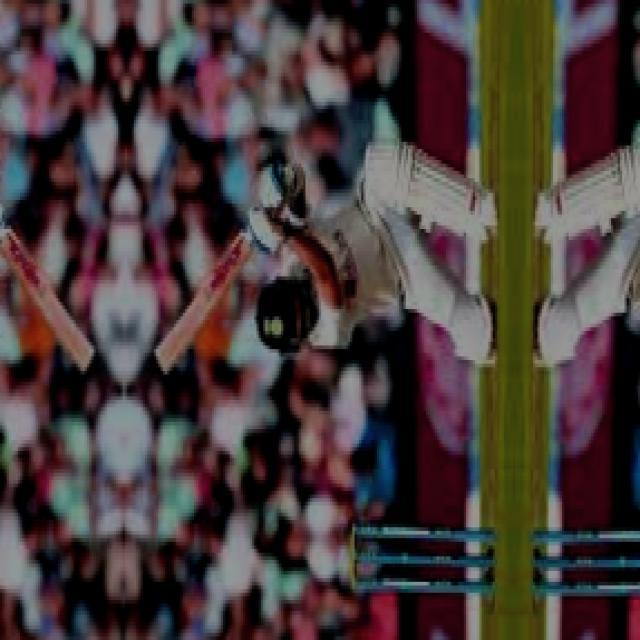bat: (148, 231, 255, 372)
toe: (149, 350, 170, 377)
